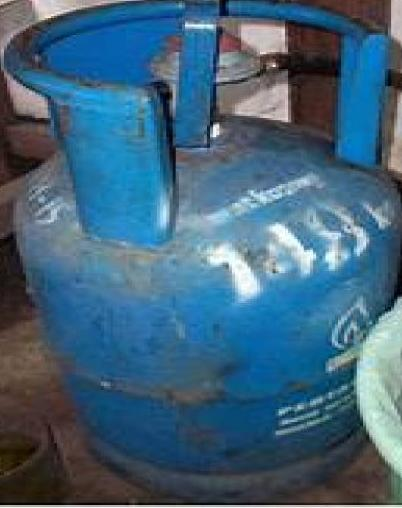cylinder: (1, 1, 402, 508)
